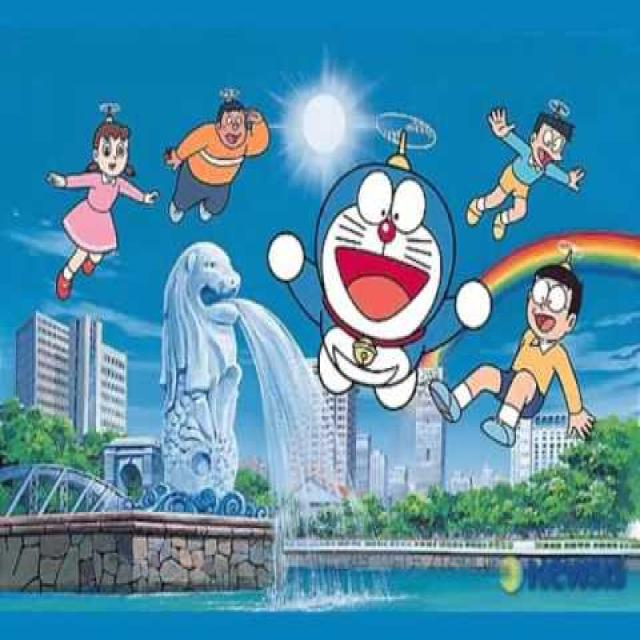doraemon: (305, 142, 456, 366)
jaian: (210, 98, 254, 153)
nobita: (513, 249, 587, 357)
shizuka: (80, 112, 143, 204)
suneo: (526, 106, 574, 180)
